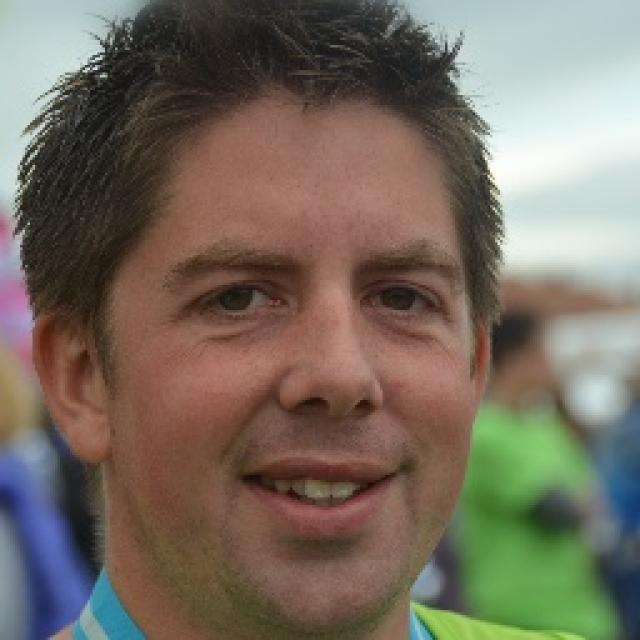earlobe: (74, 408, 118, 468)
eye: (200, 280, 279, 316), (368, 284, 438, 315)
nose: (280, 393, 396, 455)
wholeear: (30, 304, 118, 468)
